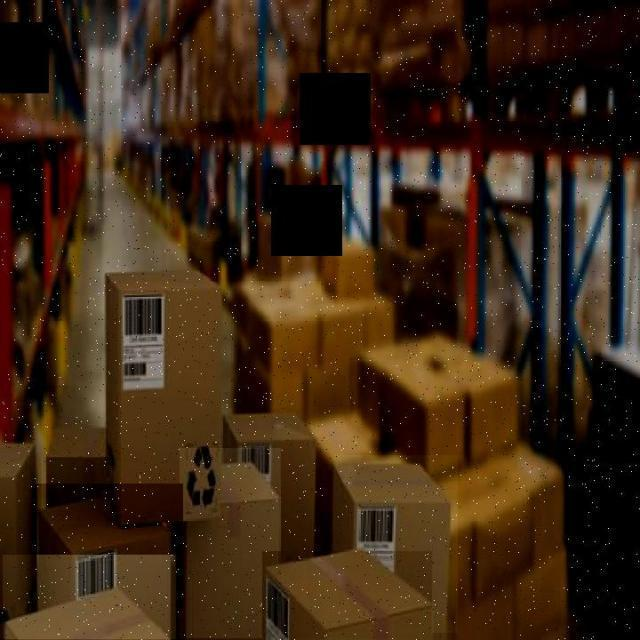box: (102, 250, 230, 538), (333, 455, 458, 633), (179, 448, 281, 638), (223, 385, 337, 554), (32, 484, 183, 608), (2, 554, 176, 640), (262, 551, 432, 638), (0, 402, 46, 638), (44, 386, 106, 502)
